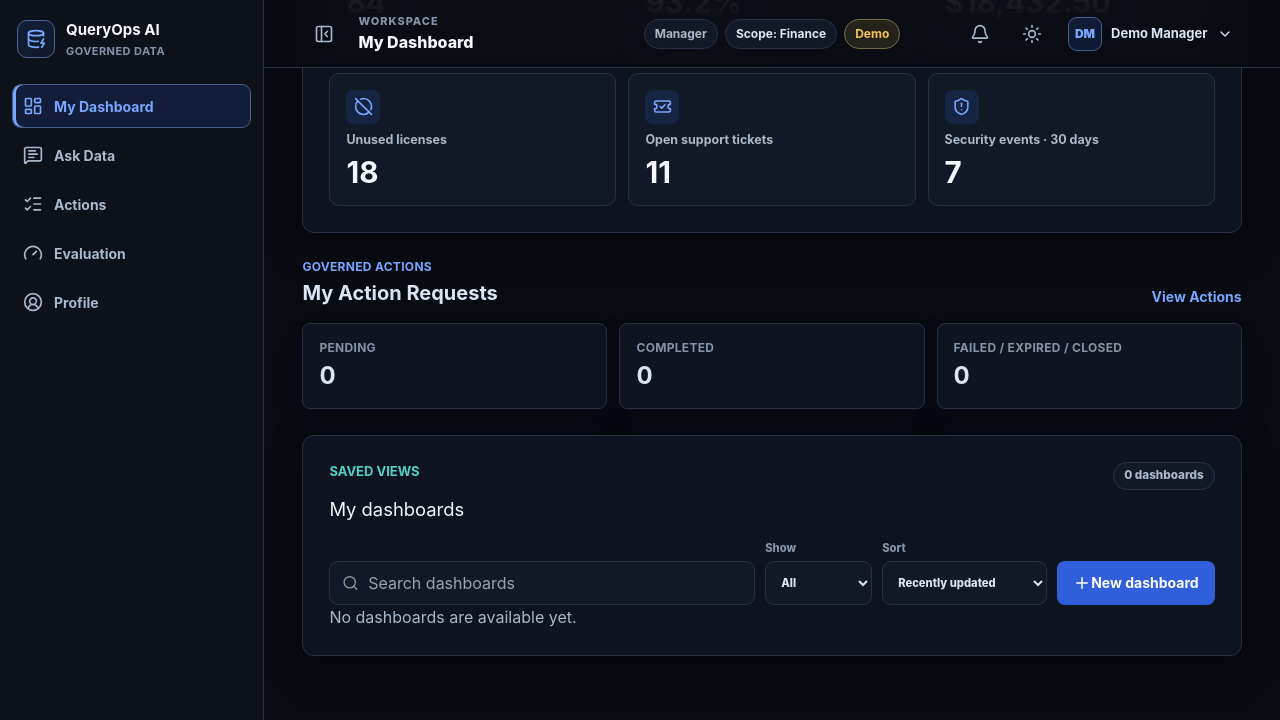
App › creates a personal dashboard with CSRF and refreshes Home
(page scrolled)
Expected: the text "No dashboards are available yet." is shown, [329,605,577,629]
Click the button "New dashboard" at (1136, 583), box [1057,561,1215,605]
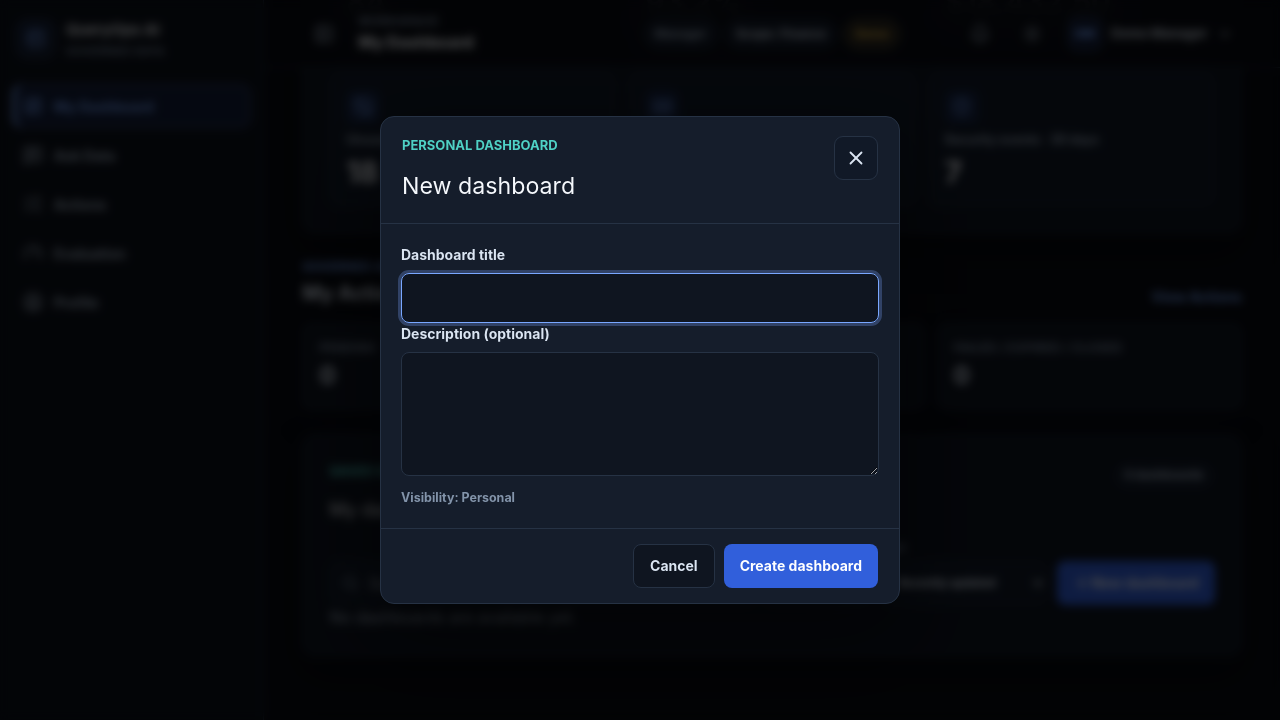
Type "Quarterly review" into the field labelled "Dashboard title" at (640, 298), box [401,273,879,323]
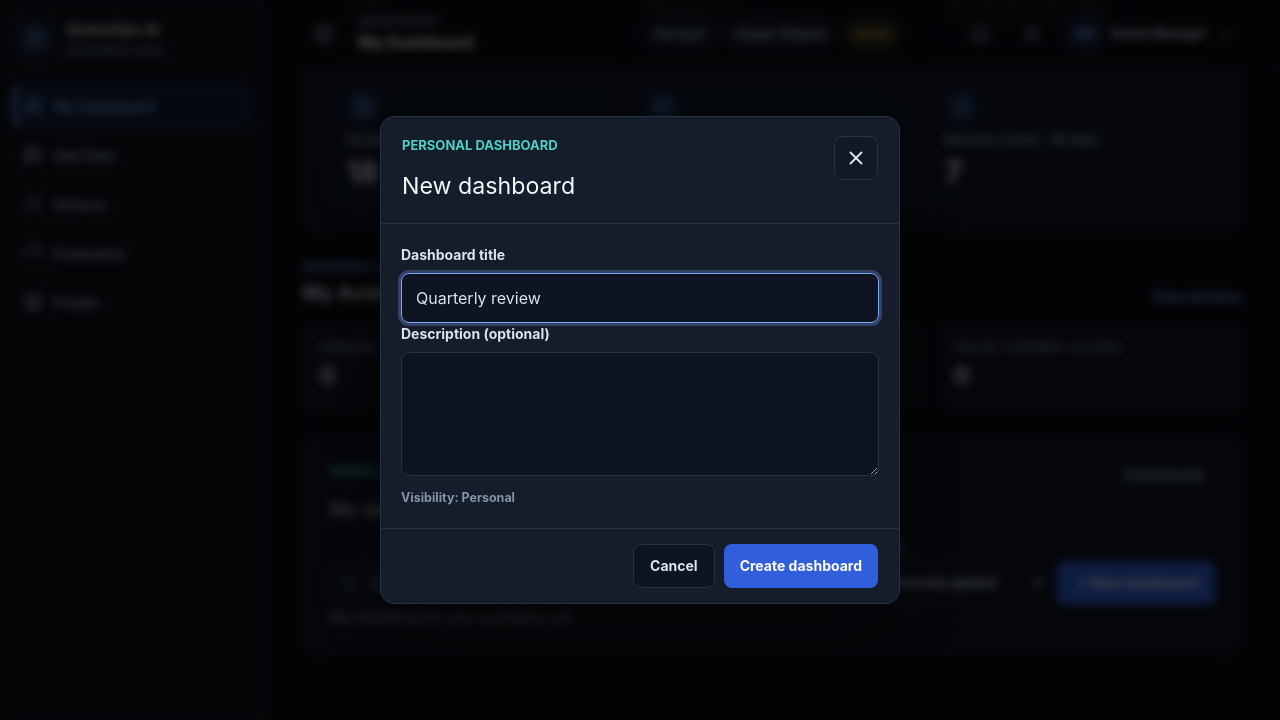
Type "Leadership review" into the text box labelled "Description (optional)" at (640, 414), box [401,352,879,476]
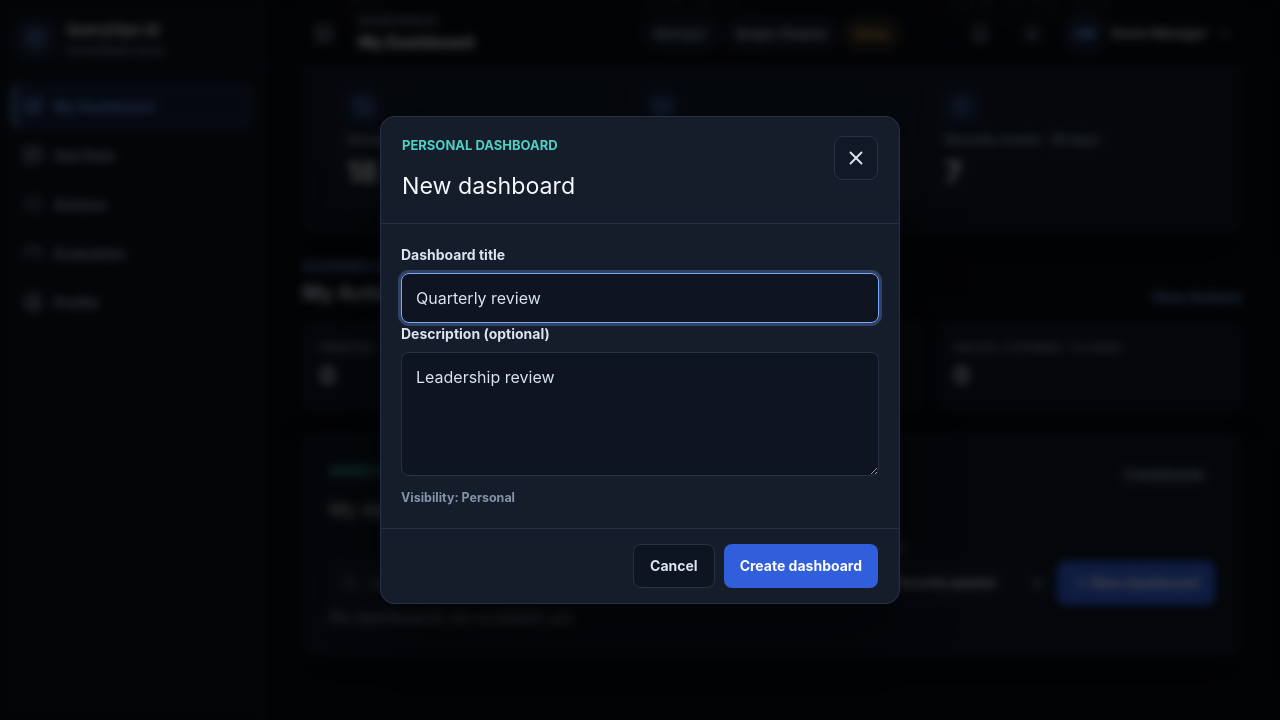
Click the button "Create dashboard" at (801, 566), box [724,544,878,588]
(page scrolled)
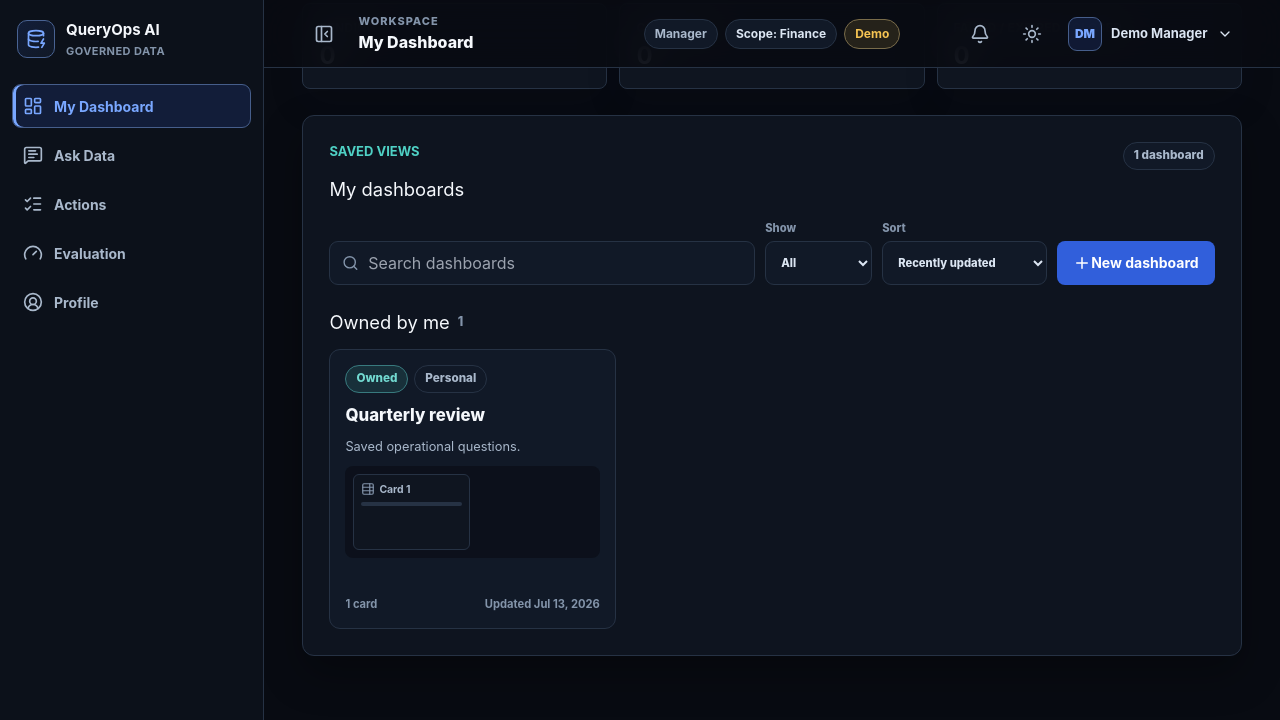
Expected: the button with aria-label "Preview dashboard Quarterly review" is shown, [329,348,616,628]
